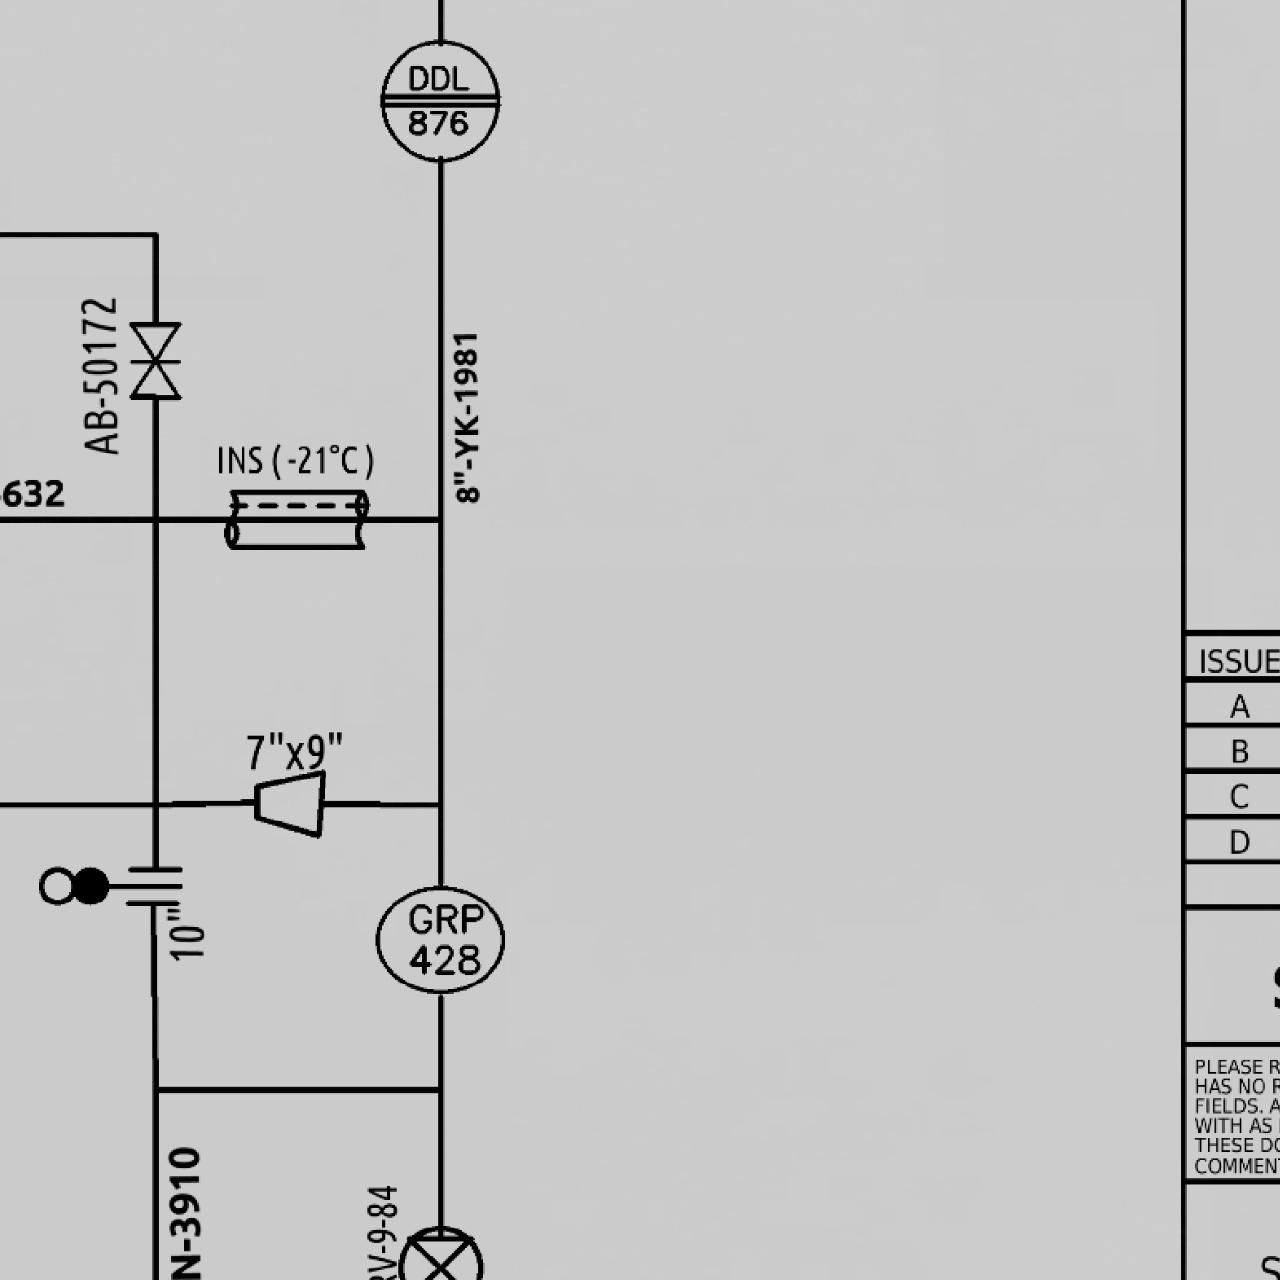Control-Panel: (373, 34, 505, 166)
